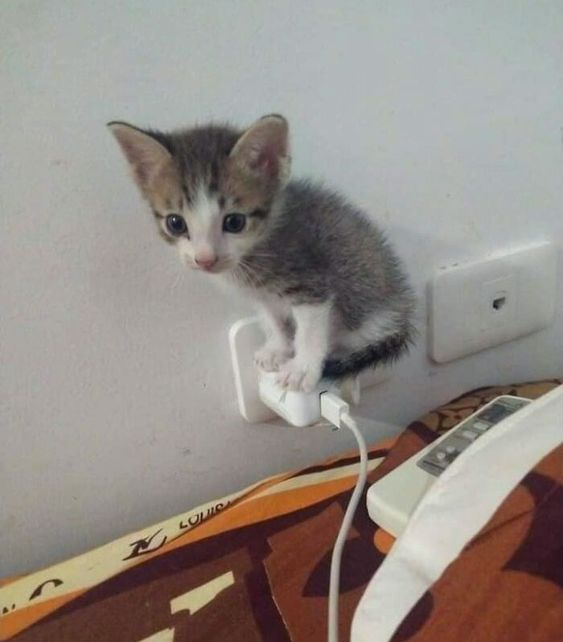cat: (107, 113, 417, 393)
